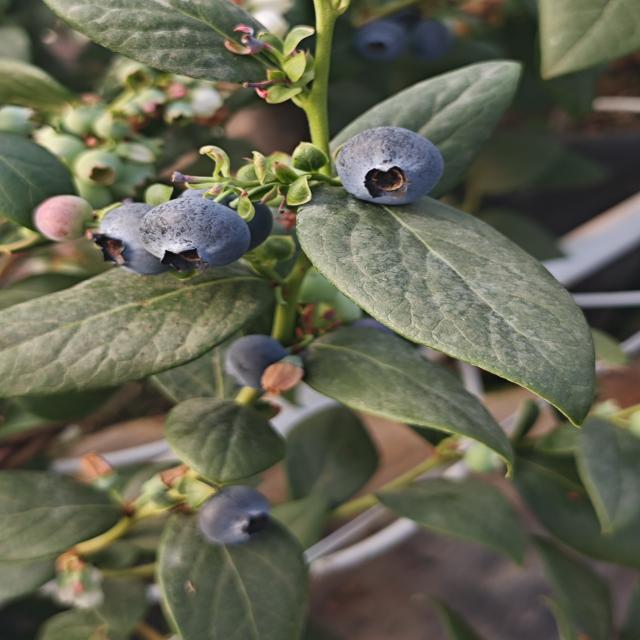ripe: (136, 194, 253, 276), (332, 125, 446, 208), (221, 332, 306, 399), (354, 13, 450, 68), (193, 483, 274, 548), (92, 197, 166, 268)
